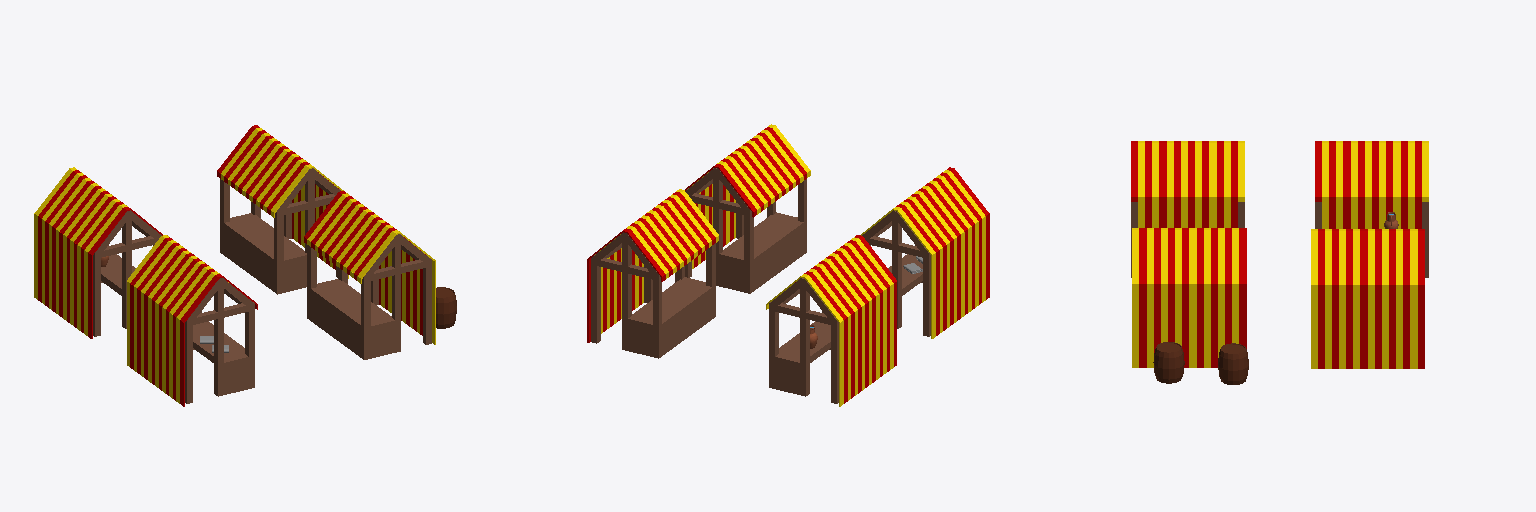
File: market_red_yellow.obj
The picture shows the model from 3 angles: view 1: azimuth 30°, elevation 25°; view 2: azimuth 150°, elevation 25°; view 3: azimuth 270°, elevation 25°; orthographic projection.
Parts seen in each view (by area): view 1: Cube.060_Cube.235, Cube.156_Cube.225, Cube.052_Cube.004, Cube.056_Cube.178, Cube.147_Cube.153, Cube.001_Cube.064, Barrel1.001; view 2: Cube.156_Cube.225, Cube.060_Cube.235, Cube.056_Cube.178, Cube.052_Cube.004, Cube.001_Cube.064, Cube.147_Cube.153, Cube.025_Cube.001, Cube.057_Cube.179; view 3: Cube.156_Cube.225, Cube.060_Cube.235, Cube.001_Cube.064, Cube.147_Cube.153, Barrel1.001, Barrel1.
Part boxes in pixels (bbox=[...]): Cube.060_Cube.235: bbox=[127, 235, 257, 406]; Cube.156_Cube.225: bbox=[34, 167, 162, 338]; Cube.052_Cube.004: bbox=[309, 234, 431, 359]; Cube.056_Cube.178: bbox=[222, 168, 340, 294]; Cube.147_Cube.153: bbox=[379, 250, 435, 344]; Cube.001_Cube.064: bbox=[292, 184, 348, 278]; Barrel1.001: bbox=[436, 287, 456, 328]; Cube.156_Cube.225: bbox=[766, 235, 896, 406]; Cube.060_Cube.235: bbox=[861, 167, 989, 338]; Cube.056_Cube.178: bbox=[591, 232, 715, 356]; Cube.052_Cube.004: bbox=[685, 168, 806, 292]; Cube.001_Cube.064: bbox=[587, 248, 643, 342]; Cube.147_Cube.153: bbox=[692, 184, 735, 268]; Cube.025_Cube.001: bbox=[744, 210, 753, 293]; Cube.057_Cube.179: bbox=[653, 275, 661, 358]; Cube.156_Cube.225: bbox=[1315, 141, 1428, 277]; Cube.060_Cube.235: bbox=[1131, 141, 1244, 277]; Cube.001_Cube.064: bbox=[1311, 285, 1424, 368]; Cube.147_Cube.153: bbox=[1132, 284, 1246, 367]; Barrel1.001: bbox=[1153, 342, 1184, 383]; Barrel1: bbox=[1218, 343, 1248, 384].
Bounding box in the file's own units: 9.51 × 3.73 × 8.36.